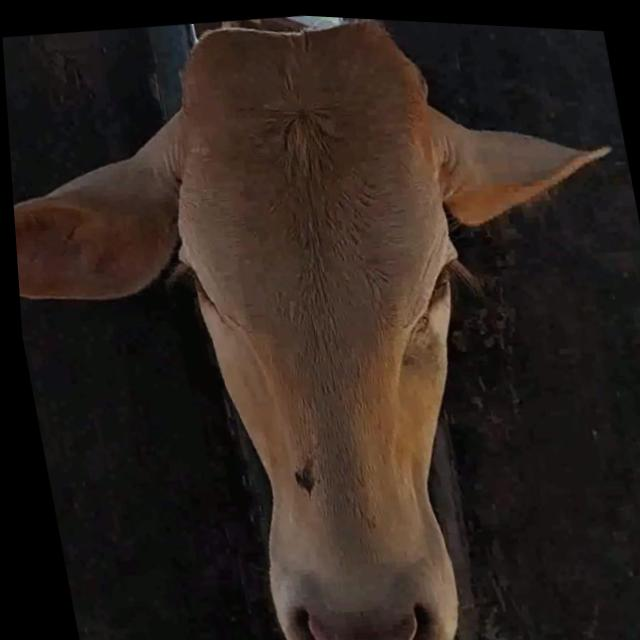cowFace: (136, 6, 528, 640)
